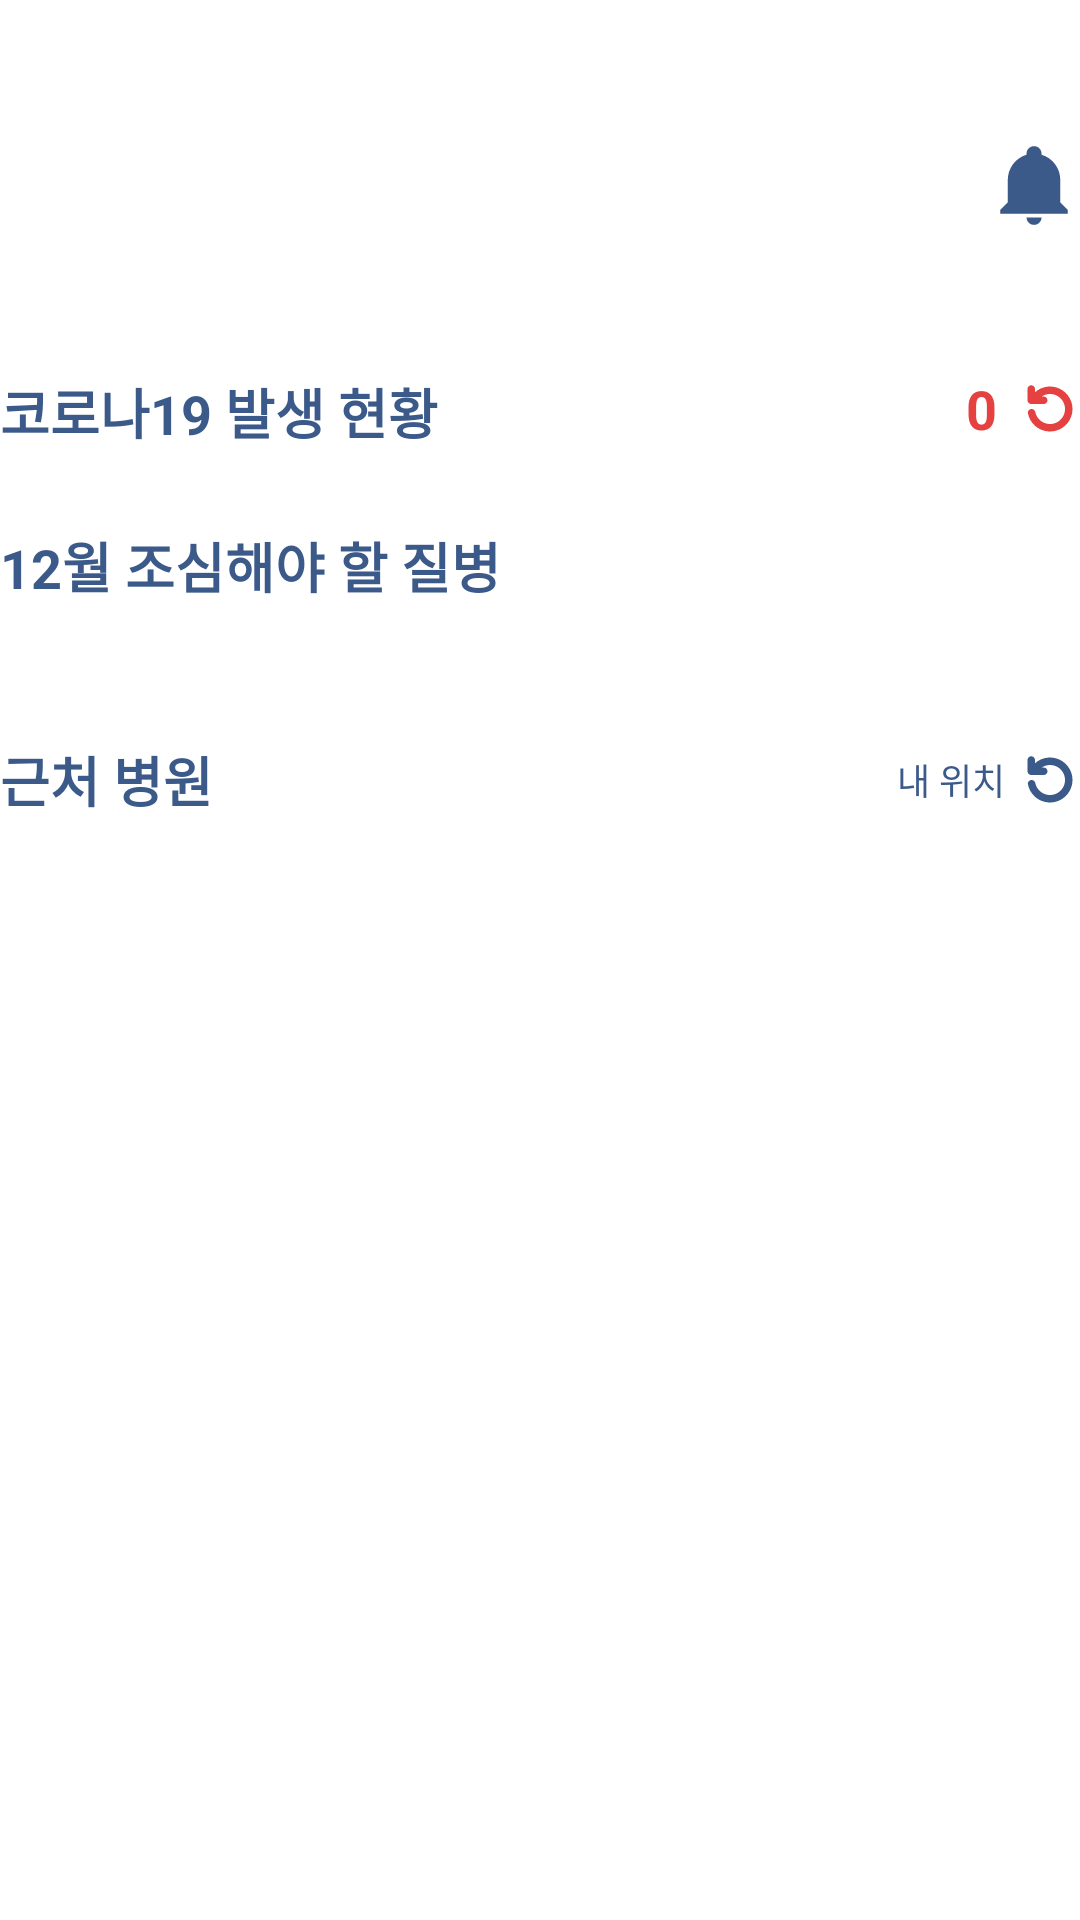

Icons on this 1080w x 1920h Android screen, each with the point to tap as point (x, y):
notification: point (1034, 185)
refresh: point (1050, 408)
